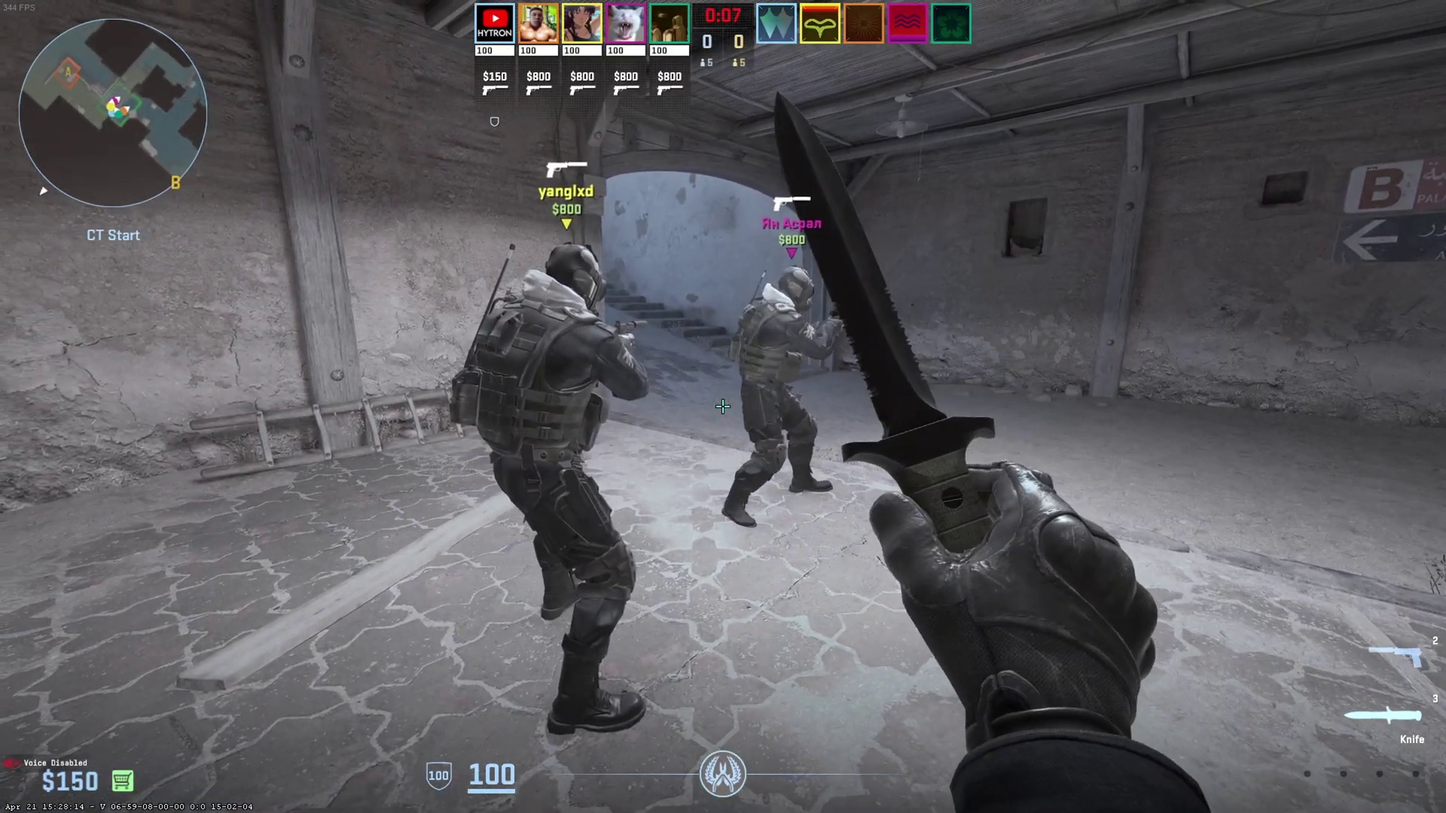CT: (487, 241, 654, 731), (727, 267, 832, 523)
